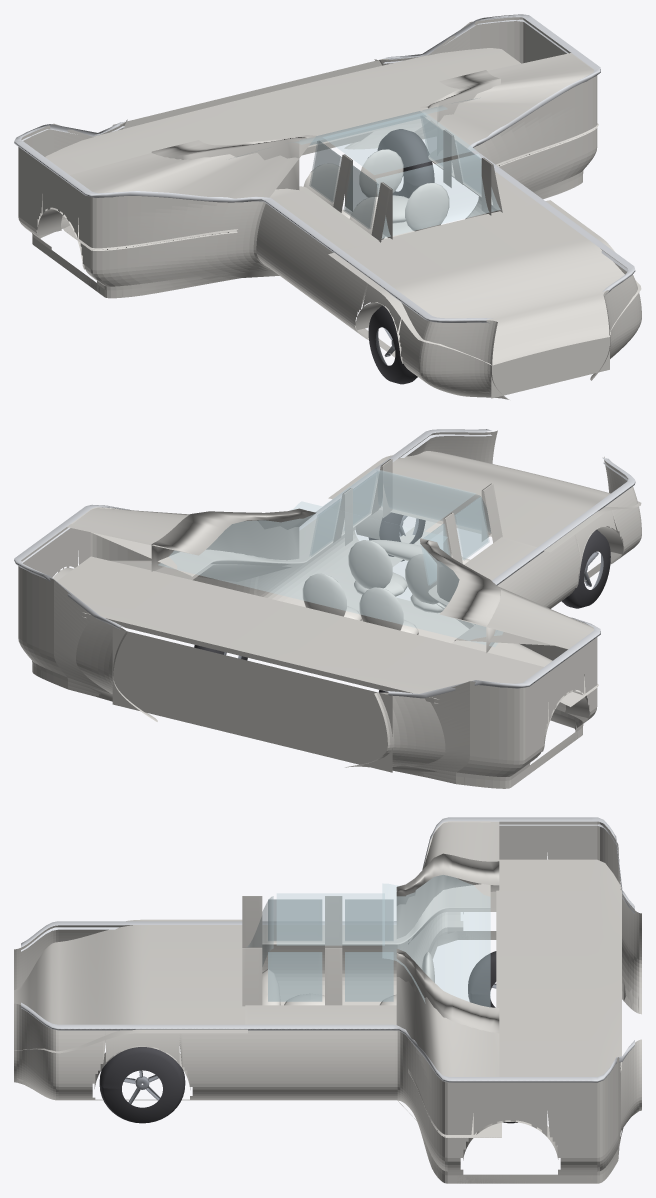
The model's file is ev-sedan-wide.glb.
The picture shows the model from 3 angles, top to bottom: view 1: azimuth 30°, elevation 25°; view 2: azimuth 150°, elevation 25°; view 3: azimuth 270°, elevation 25°; orthographic projection. The views are drawn at different scales.
Parts seen in each view (by area): view 1: BodySide_L, BodyHood, BodyDeck, BodySide_R, BodyCPillar_L, BodyCPillar_R, Windshield, RoofGlass, BodyNose, BodyBeltLip_L, BodyBeltLip_R, BodyBeltShelf_L (+20 smaller); view 2: BodyDeck, BodySide_L, RearWindow, BodyFascia, BodySide_R, BodyHood, BodyCPillar_R, BodyCPillar_L, RoofGlass, BodyBeltShelf_R, Windshield, BodyBeltLip_L (+24 smaller); view 3: BodySide_R, BodyDeck, BodyHood, BodySide_L, RearWindow, BodyCPillar_R, BodyCPillar_L, RoofGlass, BodyBeltShelf_L, WheelFRTire, BodyBeltLip_R, BodyBeltLip_L (+15 smaller).
Part boxes in pixels (<box>): BodySide_L: <box>18,119,509,399</box>; BodyHood: <box>328,200,641,365</box>; BodyDeck: <box>45,48,520,174</box>; BodySide_R: <box>344,17,641,380</box>; BodyCPillar_L: <box>70,135,316,198</box>; BodyCPillar_R: <box>420,53,593,155</box>; Windshield: <box>375,154,500,238</box>; RoofGlass: <box>323,112,475,174</box>; BodyNose: <box>491,337,609,398</box>; BodyBeltLip_L: <box>14,121,492,323</box>; BodyBeltLip_R: <box>383,14,635,294</box>; BodyBeltShelf_L: <box>270,186,379,250</box>; BodyDeck: <box>57,556,543,703</box>; BodySide_L: <box>345,456,641,788</box>; RearWindow: <box>158,501,502,646</box>; BodyFascia: <box>112,628,392,772</box>; BodySide_R: <box>18,430,497,721</box>; BodyHood: <box>328,451,641,552</box>; BodyCPillar_R: <box>67,508,316,571</box>; BodyCPillar_L: <box>419,538,593,652</box>; RoofGlass: <box>323,468,475,530</box>; BodyBeltShelf_R: <box>71,501,372,577</box>; Windshield: <box>376,470,490,532</box>; BodyBeltLip_L: <box>383,457,635,698</box>; BodySide_R: <box>14,1003,641,1183</box>; BodyDeck: <box>496,859,621,1076</box>; BodyHood: <box>14,919,247,1053</box>; BodySide_L: <box>14,821,641,1014</box>; RearWindow: <box>382,875,490,1006</box>; BodyCPillar_R: <box>396,949,499,1076</box>; BodyCPillar_L: <box>396,821,499,938</box>; RoofGlass: <box>277,893,384,945</box>; BodyBeltShelf_L: <box>262,821,490,944</box>; WheelFRTire: <box>99,1047,185,1123</box>; BodyBeltLip_R: <box>21,1002,634,1082</box>; BodyBeltLip_L: <box>21,817,634,951</box>.
Bounding box in the file's own units: 4.36 × 1.2 × 4.4.
